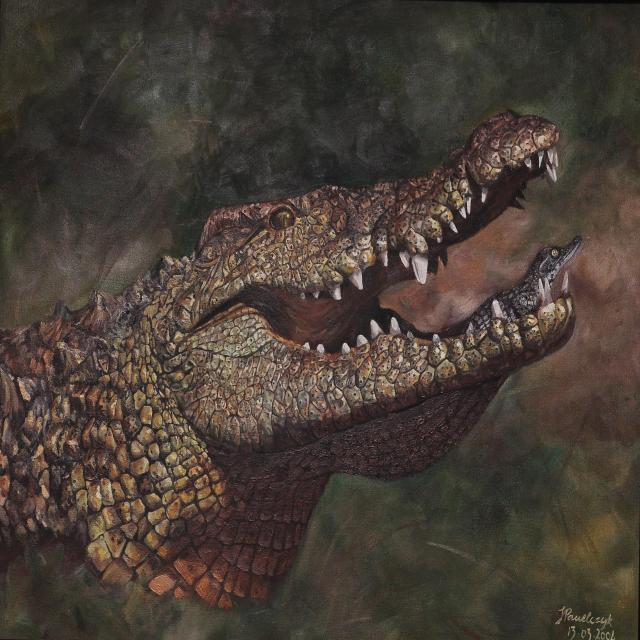crocodile: (0, 85, 630, 637)
